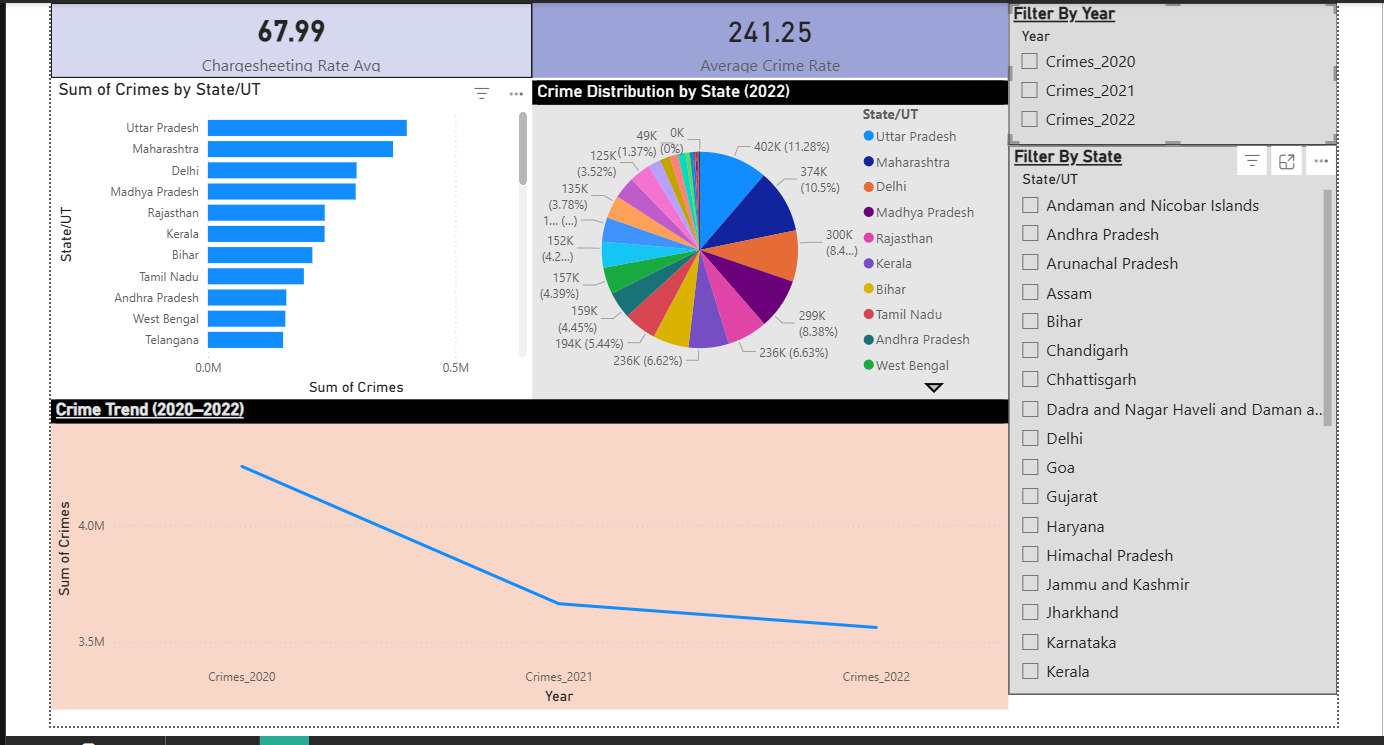

The page's visual inventory and layout, read from the dashboard file:
{"tool":"powerbi","page":{"name":"Page 1","canvas":[1280,720],"ordinal":0},"visuals":[{"type":"clusteredBarChart","fields":{"Category":["NCRB_Table_1A.State/UT"],"Y":["Sum(NCRB_Table_1A.Crimes)"]},"box":[2.5,75.9,476.4,319.7],"z":0},{"type":"pieChart","title":"Crime Distribution by State (2022)","fields":{"Category":["NCRB_Table_1A.State/UT"],"Y":["Sum(NCRB_Table_1A.Crimes)"]},"box":[478.9,77.1,473.9,318.5],"z":1000},{"type":"lineChart","title":"Crime Trend (2020–2022)","fields":{"Category":["NCRB_Table_1A.Year"],"Y":["Sum(NCRB_Table_1A.Crimes)"]},"box":[0,394.3,952.9,308.5],"z":2000},{"type":"card","fields":{"Values":["NCRB_Table_1A.Chargesheeting Rate Avg"]},"box":[0,0,478.9,74.6],"z":3000},{"type":"card","fields":{"Values":["NCRB_Table_1A.Average Crime Rate"]},"box":[478.9,0,473.9,74.6],"z":4000},{"type":"slicer","title":"Filter By State","fields":{"Values":["NCRB_Table_1A.State/UT"]},"box":[952.9,141.8,327.2,546.1],"z":5000},{"type":"slicer","title":"Filter By Year","fields":{"Values":["NCRB_Table_1A.Year"]},"box":[952.9,0,327.2,141.8],"z":6000}]}

Visuals, with their boxes in screenshot pixels (x1, y1, x2, y2):
clusteredBarChart - NCRB_Table_1A.State/UT x Sum(NCRB_Table_1A.Crimes): box(3, 80, 507, 419)
"Crime Distribution by State (2022)" pieChart: box(507, 82, 1009, 419)
"Crime Trend (2020–2022)" lineChart: box(0, 418, 1010, 744)
card - NCRB_Table_1A.Chargesheeting Rate Avg: box(0, 0, 507, 79)
card - NCRB_Table_1A.Average Crime Rate: box(507, 0, 1009, 79)
"Filter By State" slicer: box(1010, 150, 1356, 729)
"Filter By Year" slicer: box(1010, 0, 1356, 150)
